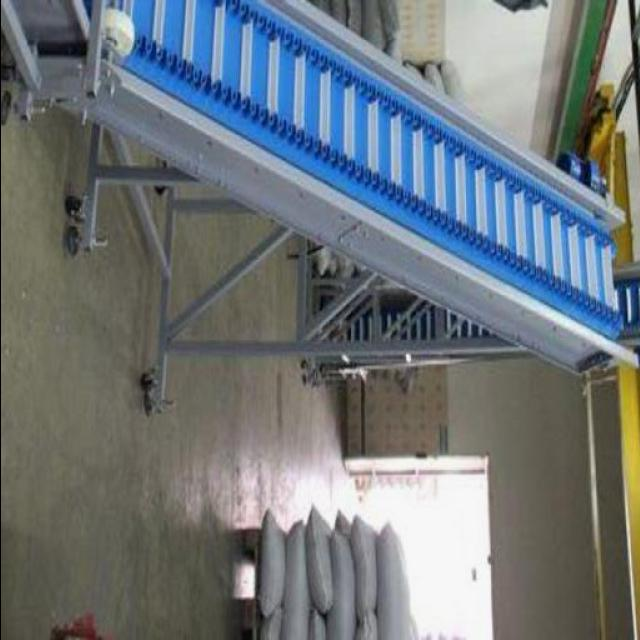conveyor: (102, 0, 622, 331)
